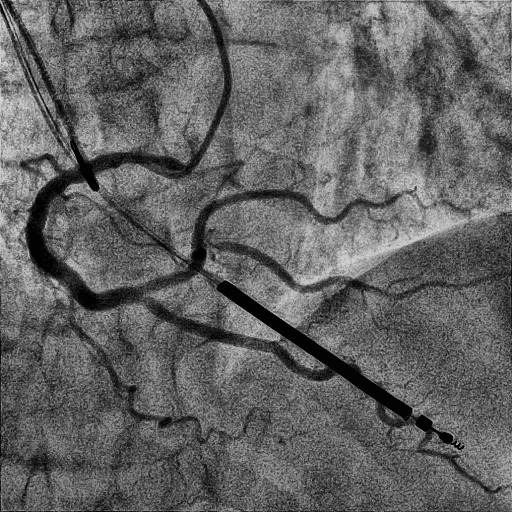pborca: (139, 190, 480, 295)
pda: (140, 297, 489, 489)
rca: (24, 151, 182, 312)
